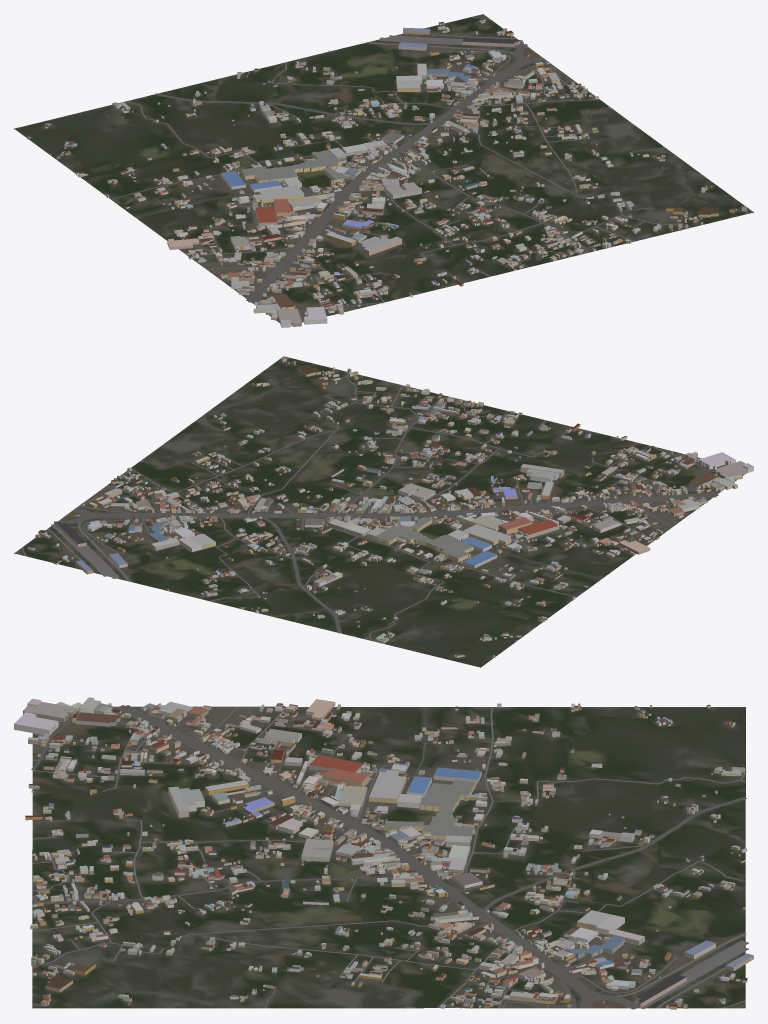
3 renders of one model, top to bottom at view 1: azimuth 30°, elevation 25°; view 2: azimuth 150°, elevation 25°; view 3: azimuth 270°, elevation 25°, orthographic. The views are drawn at different scales.
Parts seen in each view (by area): view 1: ground, buildings, roads; view 2: ground, buildings, roads; view 3: ground, buildings, roads.
Boxes of the visible parts, x1=… form: ground: x1=14, y1=14, x2=753, y2=322; buildings: x1=27, y1=19, x2=746, y2=327; roads: x1=110, y1=16, x2=747, y2=322; ground: x1=14, y1=356, x2=745, y2=667; buildings: x1=27, y1=356, x2=753, y2=657; roads: x1=22, y1=357, x2=718, y2=643; ground: x1=32, y1=706, x2=745, y2=1008; buildings: x1=14, y1=697, x2=753, y2=1009; roads: x1=31, y1=705, x2=749, y2=1009.
Bounding box in the file's own units: 1435 × 18.8 × 1453.
